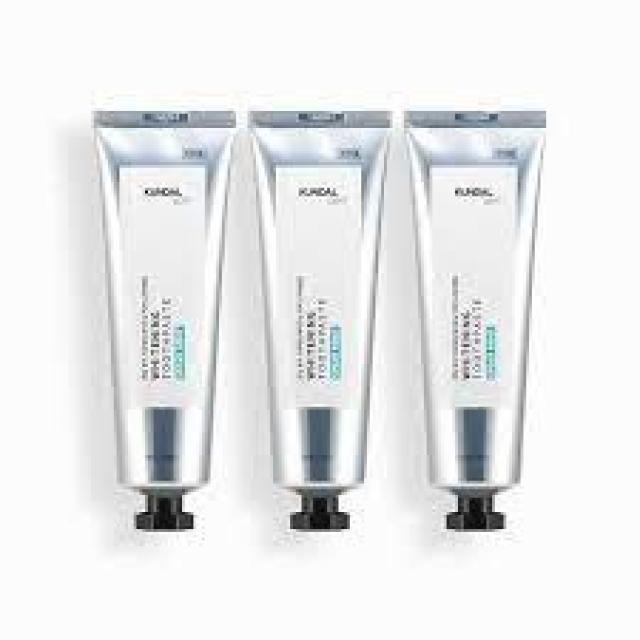toothpaste: (233, 92, 409, 539), (396, 88, 564, 552), (75, 94, 237, 552)
